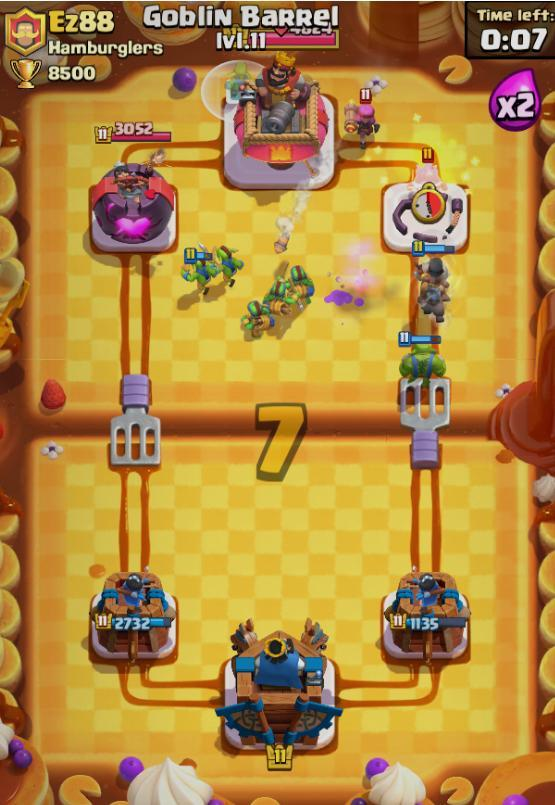EFirecrack: (345, 87, 379, 148)
EKingTower: (224, 53, 334, 188)
EnemyPrincessTower: (90, 162, 175, 253)
OBrawler: (400, 332, 446, 388)
OGoblin: (184, 246, 218, 294), (214, 245, 243, 287)
ORamrider: (414, 243, 449, 323)
OSpearGoblin: (241, 300, 273, 340), (288, 265, 313, 308), (263, 279, 289, 319)
OwnKingTower: (216, 619, 341, 753)
OwnPrincessTower: (382, 570, 469, 663), (89, 569, 175, 662)
TowerDown: (381, 177, 469, 256)
